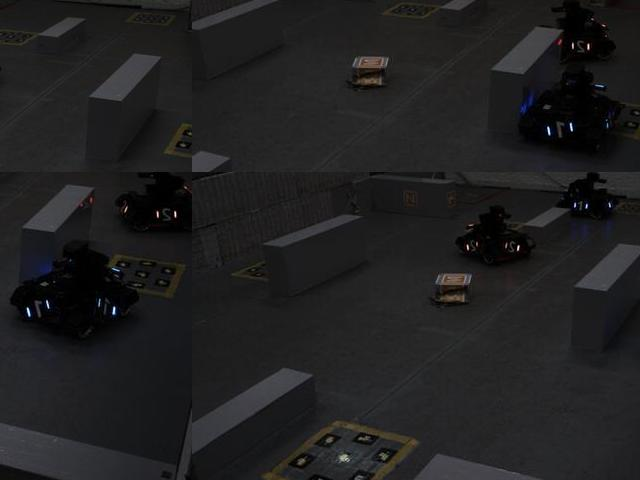armor: (540, 117, 579, 144), (23, 296, 59, 324), (95, 297, 122, 322), (151, 206, 183, 225), (569, 35, 596, 55), (502, 239, 525, 256), (568, 198, 591, 215), (464, 237, 483, 255)
